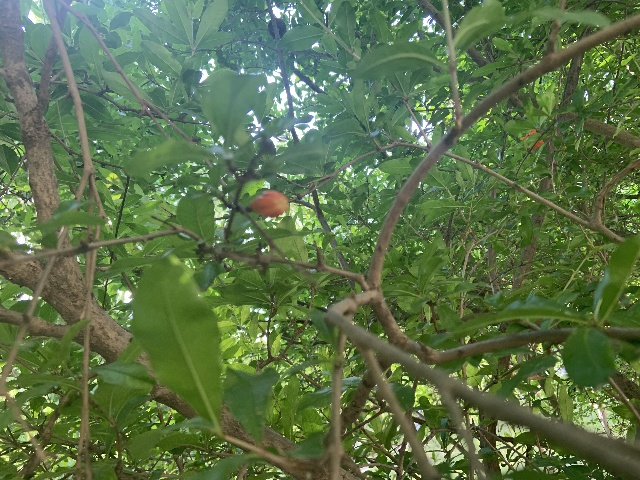bud: (249, 190, 288, 217)
flower: (520, 129, 543, 149)
